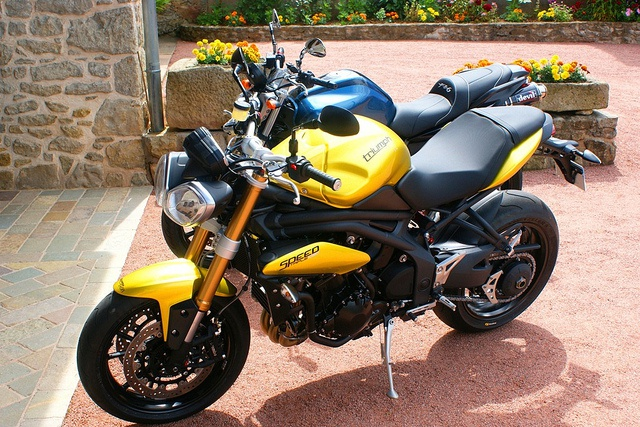non-vehicle: (76, 43, 605, 422), (250, 7, 549, 145)
